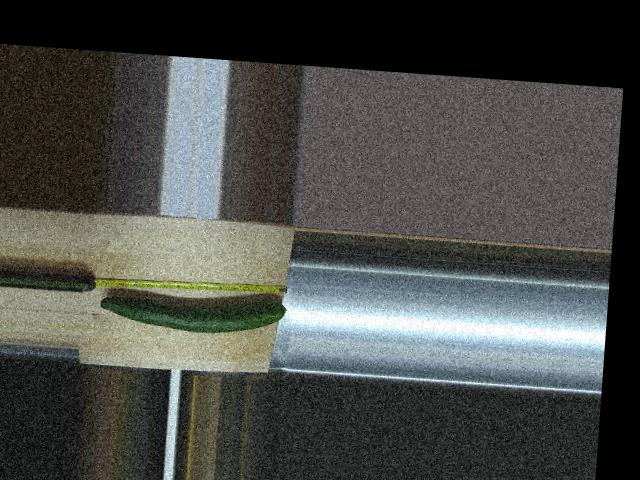cucumber: (98, 288, 286, 338)
